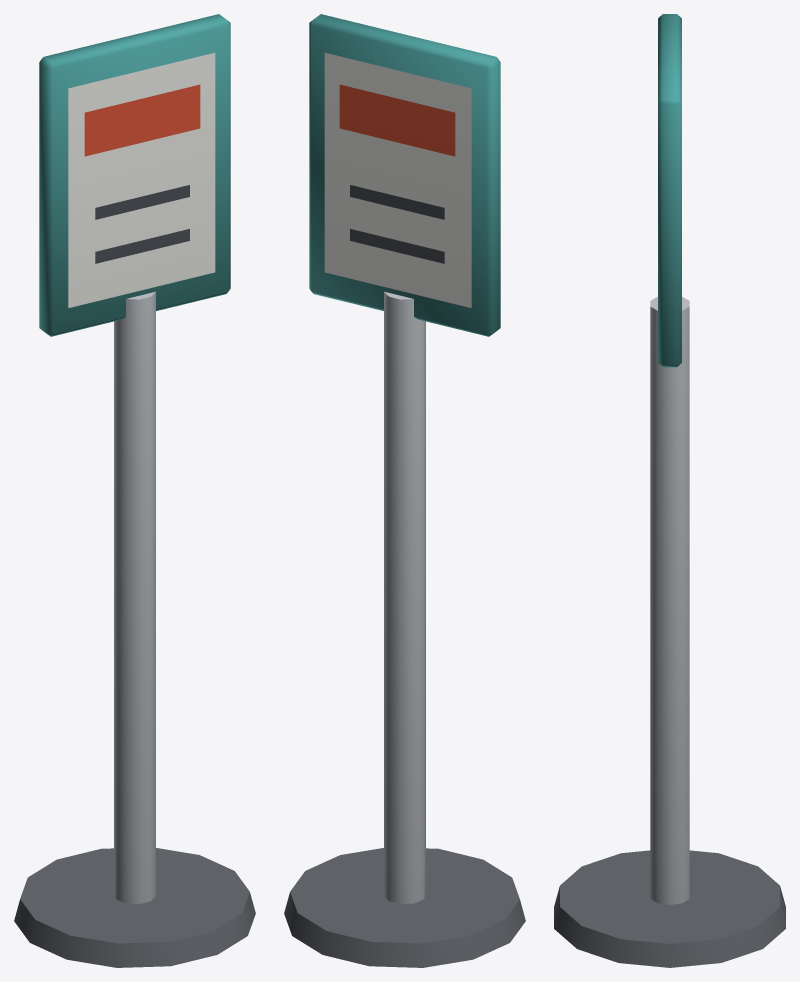
File: SignStand_Floor_01.glb
3 views of the same model, side by side, from view 1: azimuth 30°, elevation 25°; view 2: azimuth 150°, elevation 25°; view 3: azimuth 270°, elevation 25° (orthographic). The views are drawn at different scales.
Parts seen in each view (by area): view 1: SM_SignStand_Floor_01; view 2: SM_SignStand_Floor_01; view 3: SM_SignStand_Floor_01.
Boxes of the visible parts, box(x1,y1,x2,y2) form: SM_SignStand_Floor_01: box(14, 14, 255, 967); SM_SignStand_Floor_01: box(284, 14, 525, 967); SM_SignStand_Floor_01: box(554, 14, 785, 967).
Bounding box in the file's own units: 0.4 × 1.6 × 0.39.
1 material, 1 textured.
